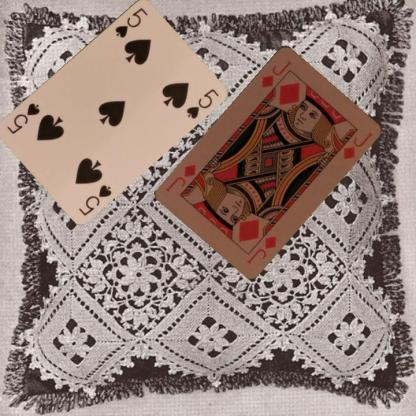5s: (76, 182, 113, 218), (112, 4, 150, 38)
Jd: (259, 58, 293, 89), (245, 233, 278, 264)
